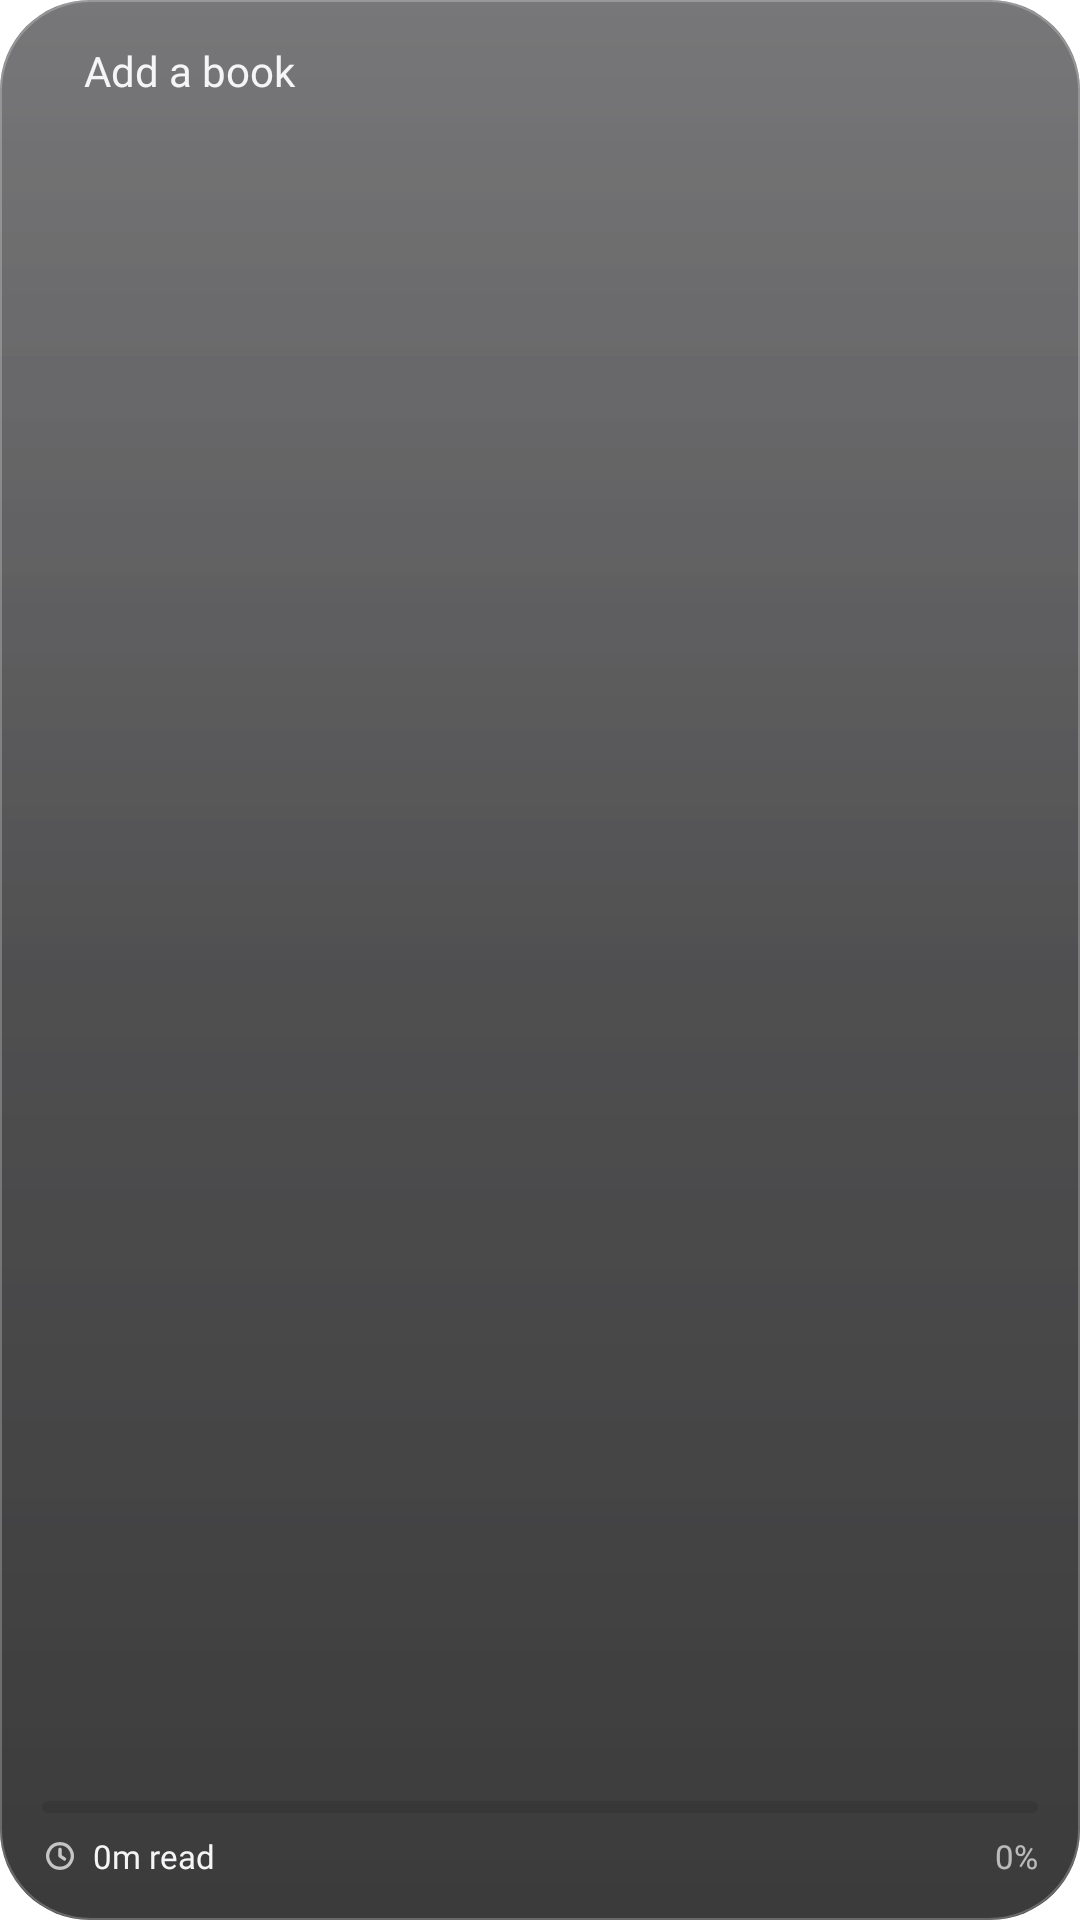

Point at icon controls on the screen. Image size 1080px×1920px, points as point (x, y).
clock: point (60, 1856)
